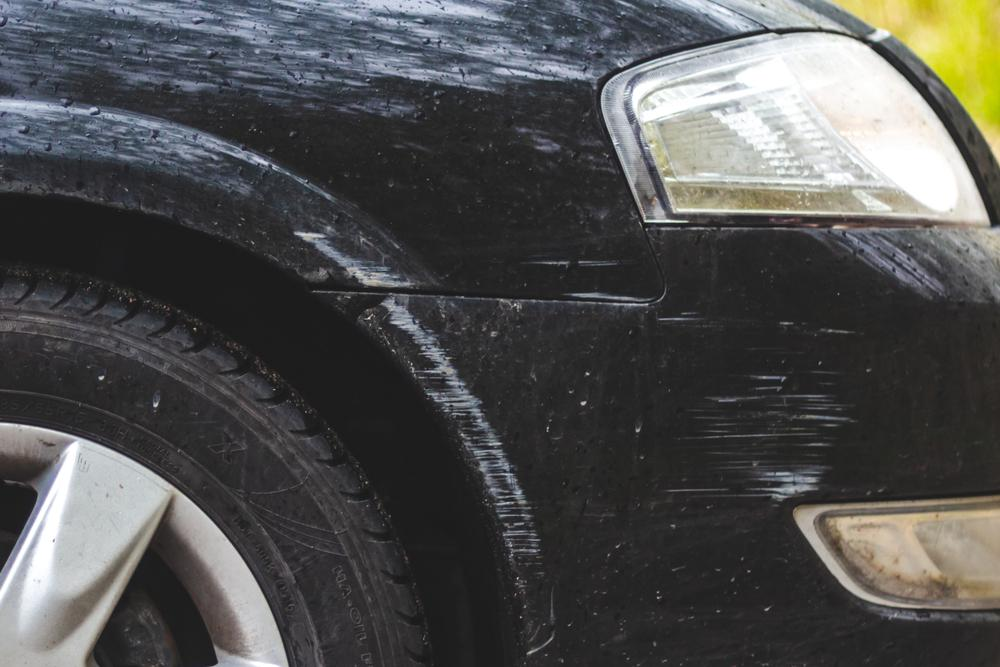scratch: (359, 295, 564, 659), (665, 307, 871, 508), (289, 223, 422, 286), (524, 252, 642, 304)
